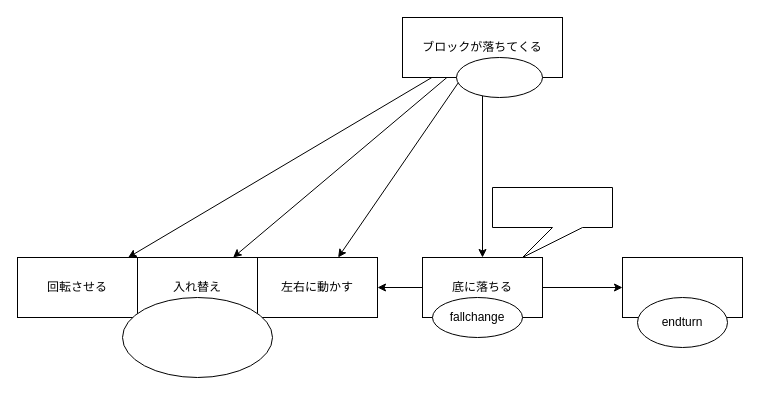
Some shapes in this 760 by 395 pixel diagram are drawn without their labels. Here are the shapes that lost their labels. From the top down, the centre of each, then its label:
At (x=499, y=77): "fall".
At (x=552, y=222): "接地時間で分岐".
At (x=682, y=287): "次のブロック".
At (x=197, y=337): "press_key".
